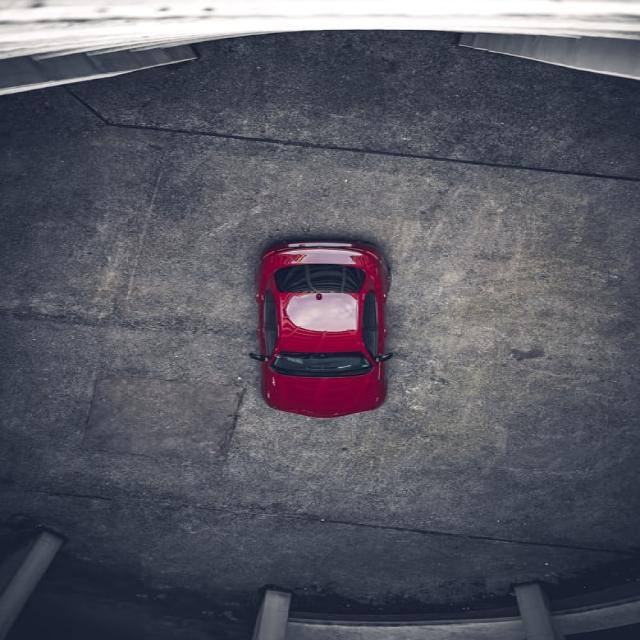Car: (247, 240, 393, 420)
